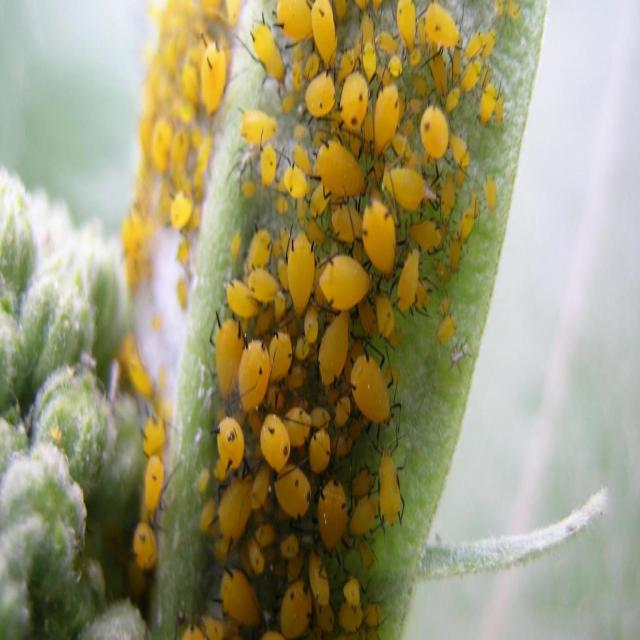Aphid-Grouped-: (198, 2, 437, 640)
Aphid-Grown-: (307, 127, 377, 212), (344, 353, 409, 443), (348, 196, 406, 284), (314, 241, 377, 321), (280, 216, 318, 322), (366, 446, 410, 530), (232, 332, 272, 417), (314, 466, 351, 545), (391, 234, 423, 318), (229, 105, 287, 150)
